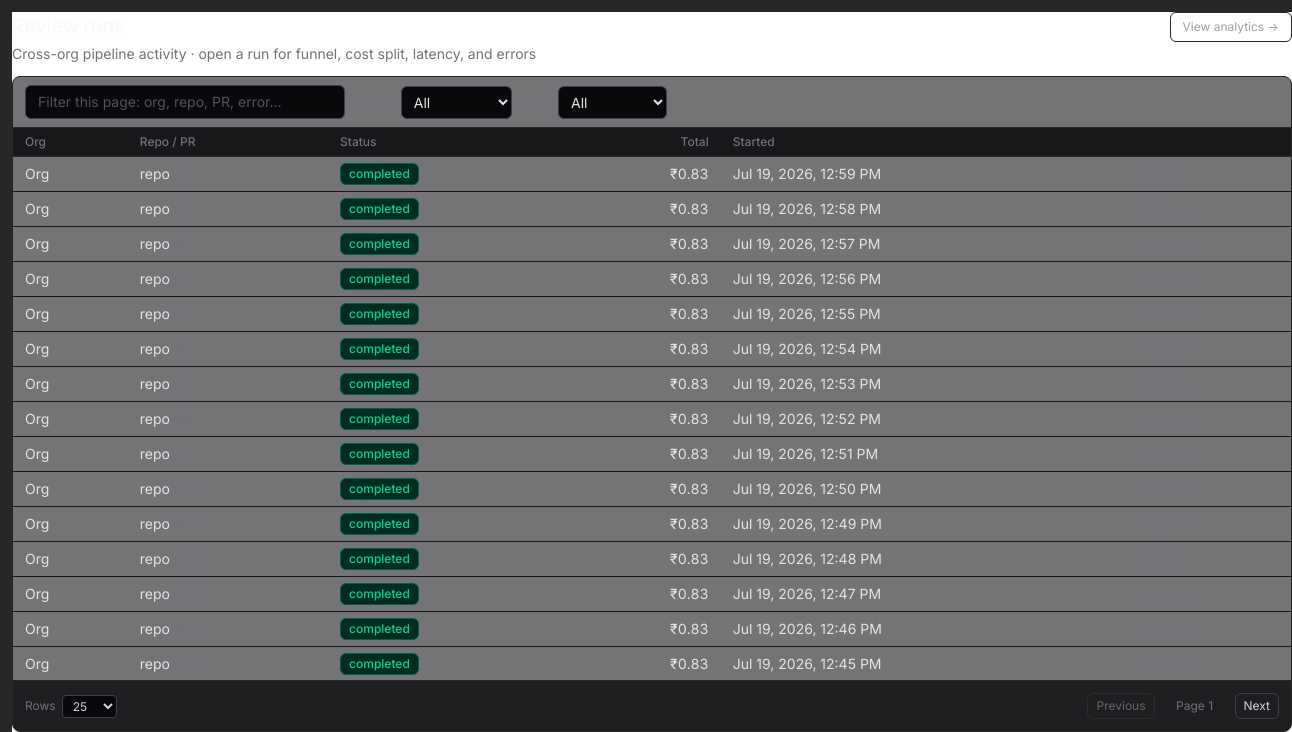
Test: Runs page › loads the next page with before= last startedAt
The image size is (1292, 732).
Expected: the text "Page 1" is shown, [1176,698,1213,713]
Click the button "Next". click: coordinates (1257, 706)
box: [1234,693,1279,719]
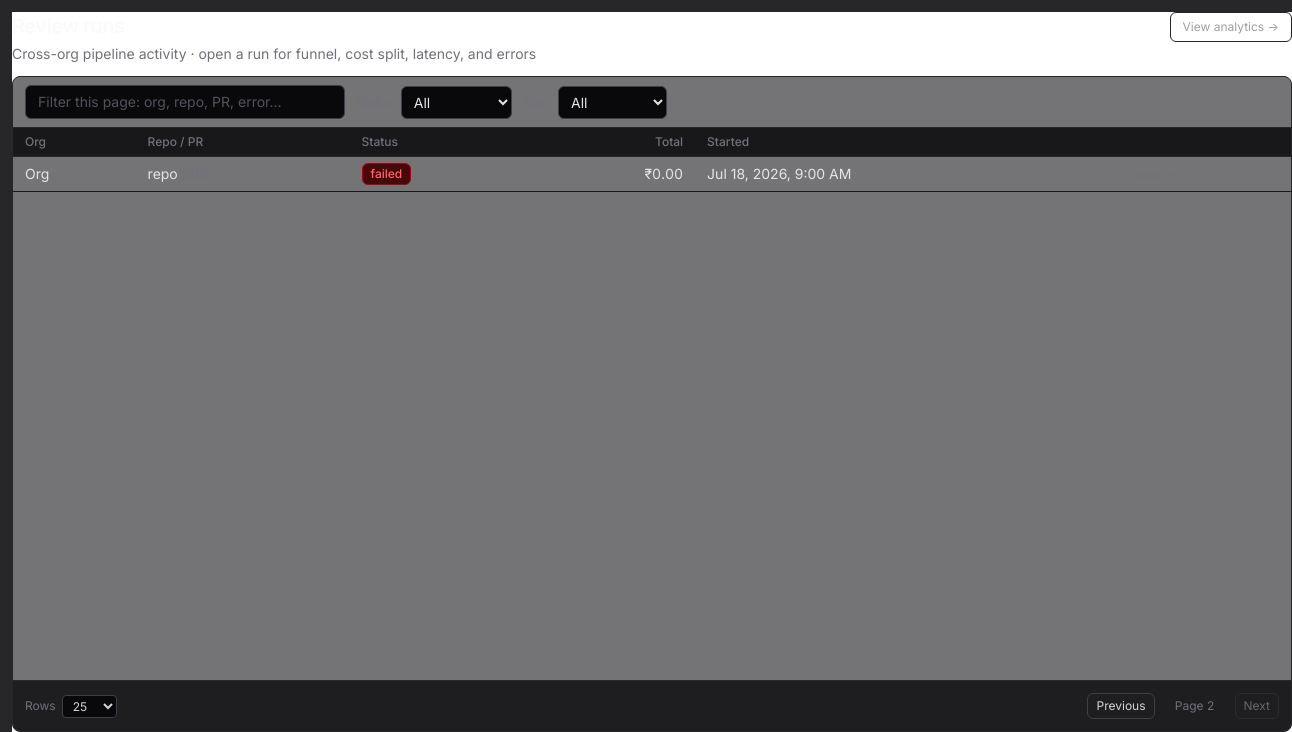
Result: the text "Page 2" is shown at [1175,698,1214,713]
Result: the text "failed" is shown at [362,163,411,185]
